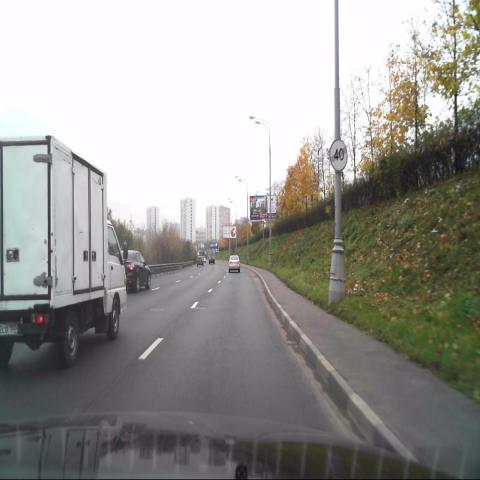3_25: (329, 139, 348, 172)
